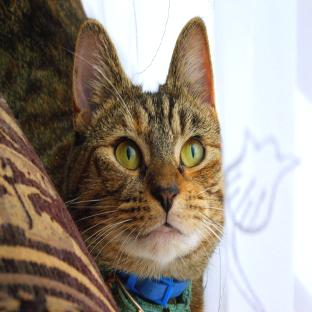Animal: (0, 0, 223, 312)
